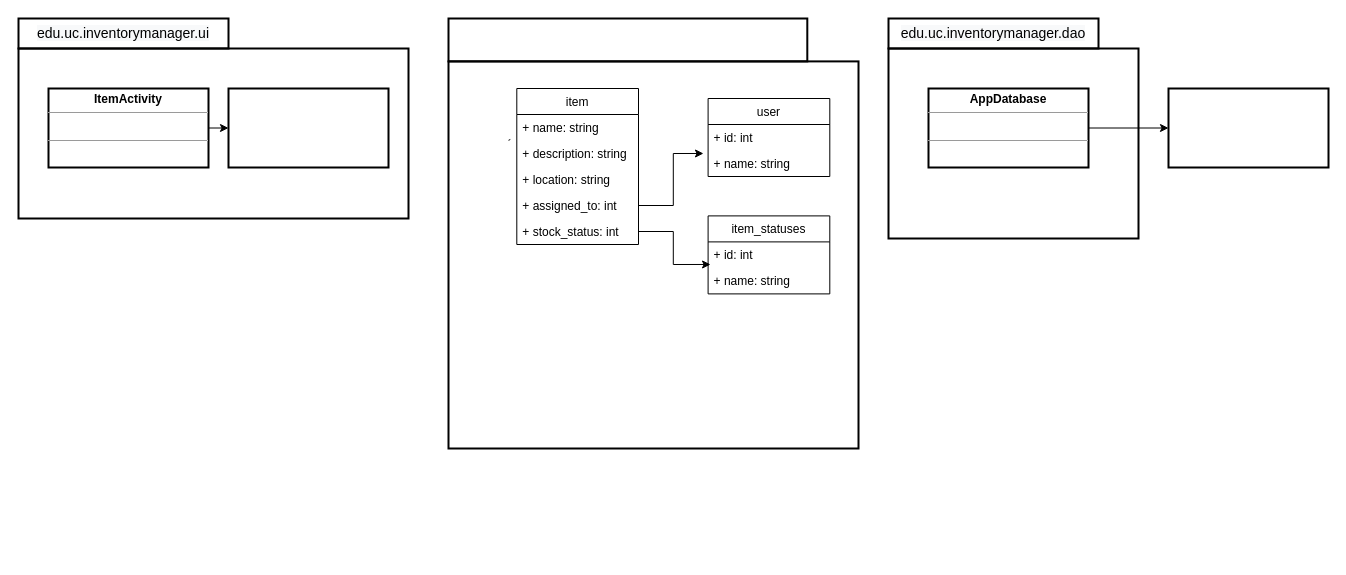
Image size: 1346x575. Some labels were removed from this diagram. The centre of each missing label's shape, as x and y in pixels:
edu.uc.inventorymanager.dto: the point at 627,39
InventoryDB: the point at 1248,127
ItemViewModel: the point at 308,127
